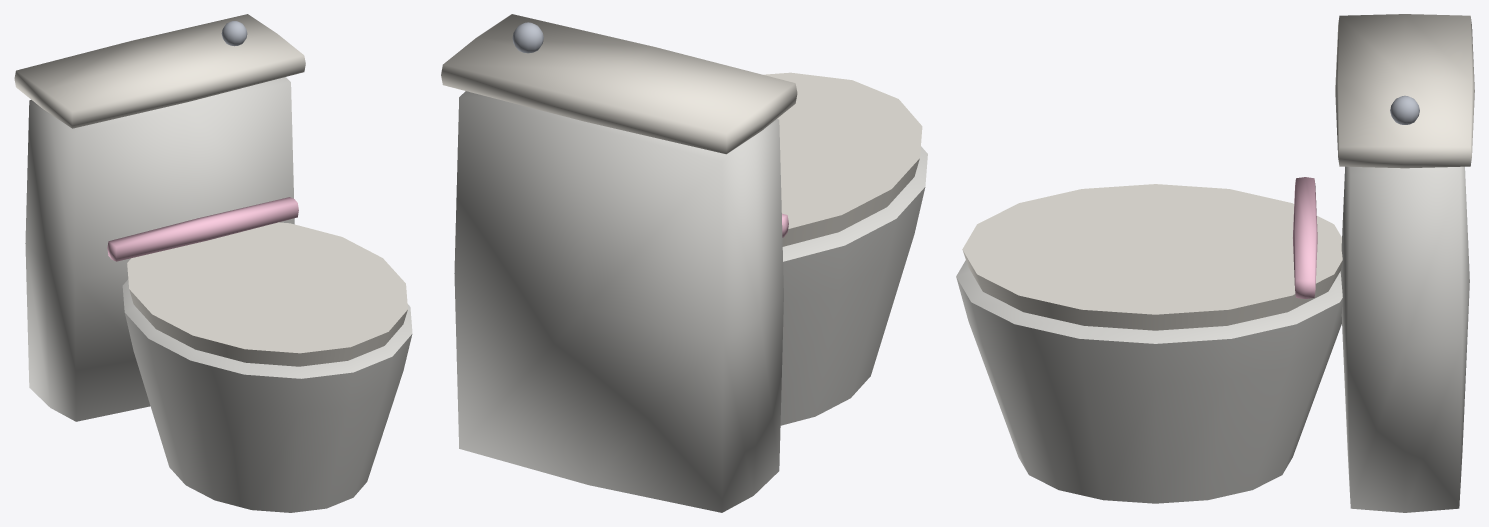
File: toilet.glb
The picture shows the model from 3 angles, left to right: view 1: azimuth 30°, elevation 25°; view 2: azimuth 150°, elevation 25°; view 3: azimuth 270°, elevation 25°; orthographic projection. The views are drawn at different scales.
Parts seen in each view (by area): view 1: root; view 2: root; view 3: root.
Part boxes in pixels (x1=…): root: x1=14, y1=14, x2=412, y2=512; root: x1=441, y1=14, x2=927, y2=512; root: x1=956, y1=14, x2=1474, y2=512.
Size of the model in its own units: 0.64 by 0.89 by 1.04.
